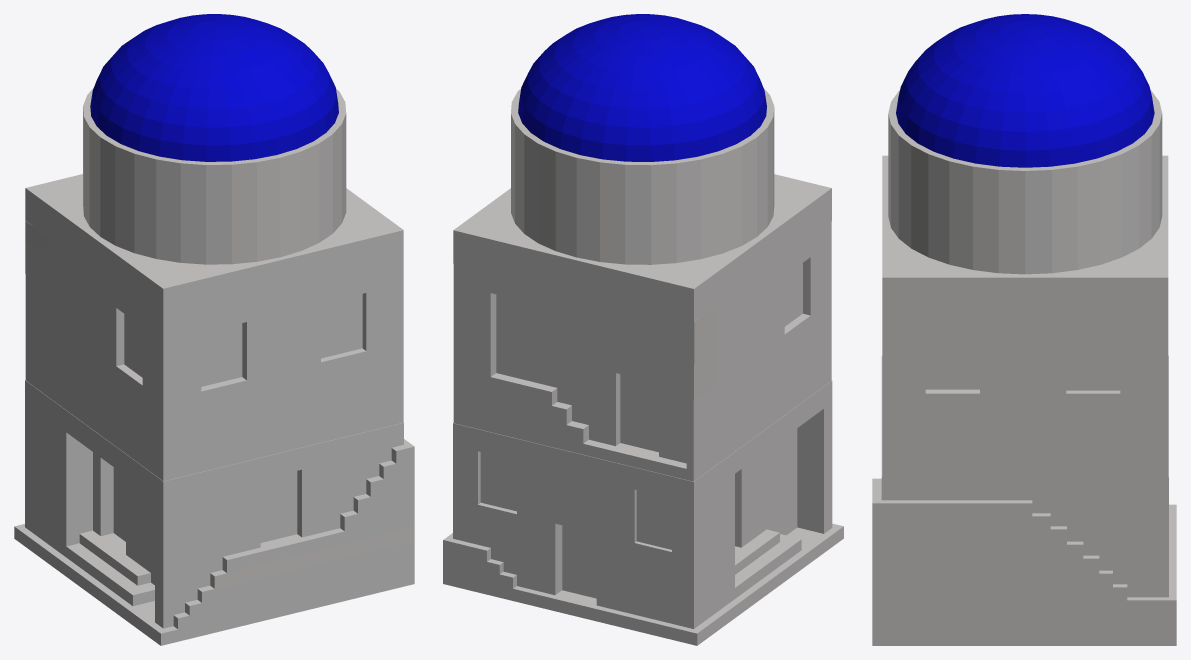
Rendered from L4_Full_Tower.fbx.
3 renders of one model, left to right at view 1: azimuth 30°, elevation 25°; view 2: azimuth 150°, elevation 25°; view 3: azimuth 270°, elevation 25°, orthographic. The views are drawn at different scales.
Parts seen in each view (by area): view 1: L1_Block, L2_Block, Cylinder, Sphere; view 2: L1_Block, L2_Block, Cylinder, Sphere; view 3: L1_Block, L2_Block, Cylinder, Sphere.
Boxes of the visible parts, left/top/right/bottom form: L1_Block: left=14, top=380, right=414, bottom=645; L2_Block: left=25, top=221, right=403, bottom=481; Cylinder: left=25, top=88, right=403, bottom=321; Sphere: left=90, top=14, right=338, bottom=161; L1_Block: left=443, top=381, right=843, bottom=645; L2_Block: left=453, top=222, right=831, bottom=481; Cylinder: left=453, top=88, right=831, bottom=321; Sphere: left=518, top=14, right=766, bottom=161; L1_Block: left=872, top=355, right=1176, bottom=645; L2_Block: left=882, top=312, right=1168, bottom=477; Cylinder: left=882, top=90, right=1168, bottom=311; Sphere: left=896, top=14, right=1154, bottom=167.
Size of the model in its own units: 100 by 200 by 100.
